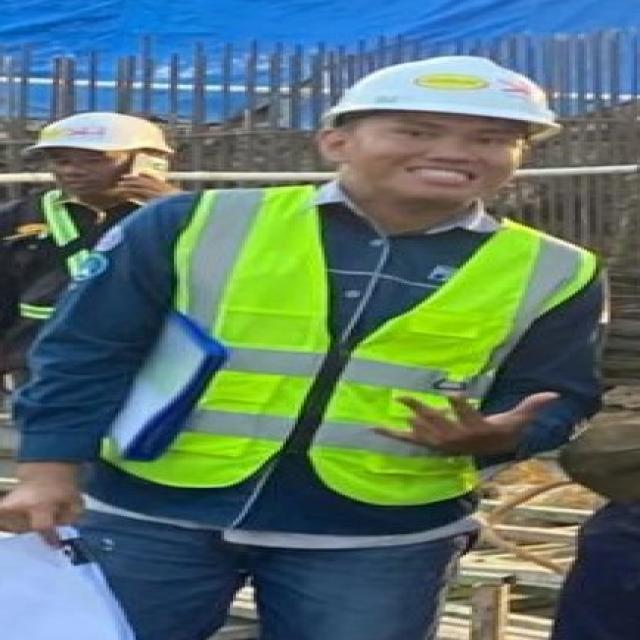safetyhelmet: (304, 53, 570, 167), (30, 106, 170, 186)
